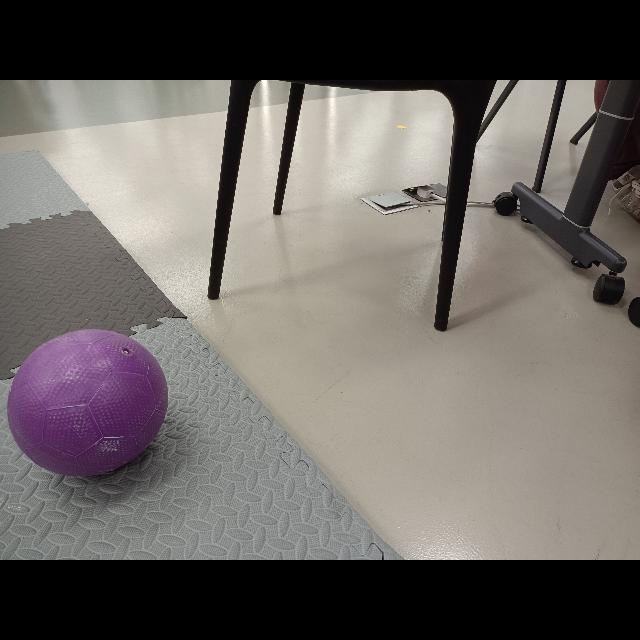P: (6, 328, 168, 478)
